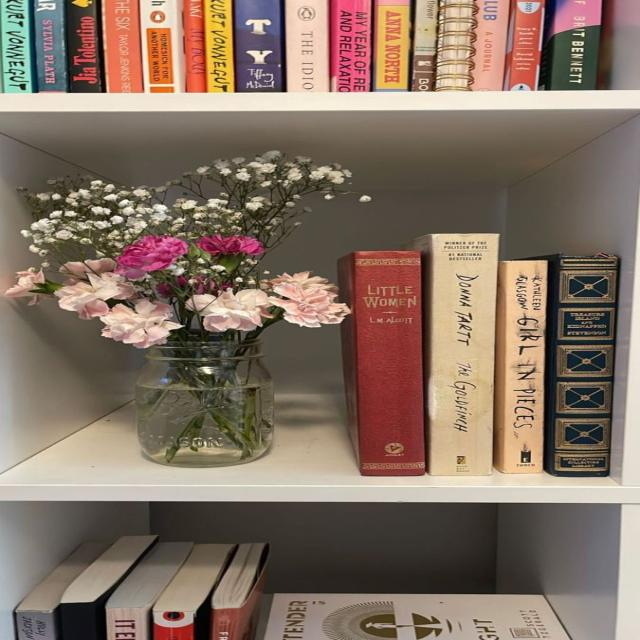book: (412, 234, 499, 476), (350, 254, 427, 473), (544, 253, 619, 476), (494, 260, 547, 473), (540, 0, 601, 90), (233, 0, 283, 91), (139, 0, 184, 92), (284, 0, 329, 92), (101, 0, 143, 93), (330, 0, 372, 92), (469, 0, 509, 91), (505, 0, 544, 91), (64, 0, 102, 92), (373, 0, 410, 91), (33, 0, 69, 92), (0, 0, 34, 93), (204, 0, 234, 92), (411, 0, 437, 91), (183, 0, 207, 92)
flowers: (5, 151, 349, 466)
